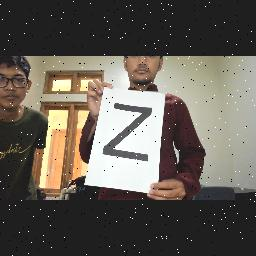z: (96, 96, 160, 170)
